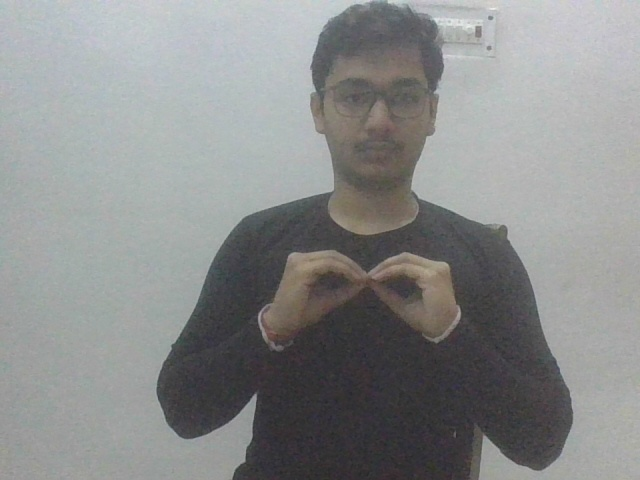B: (262, 247, 460, 345)
